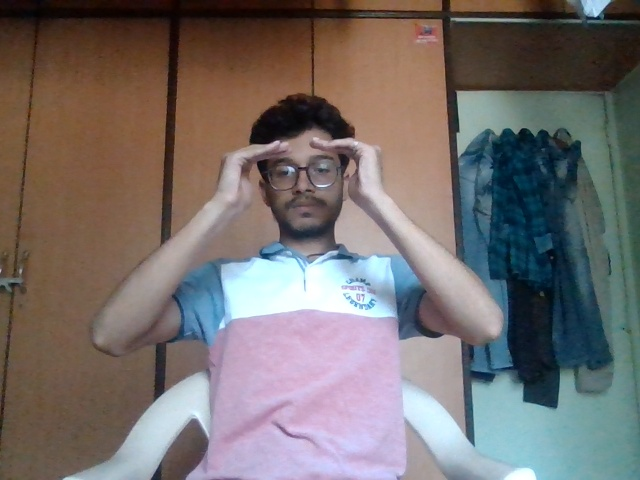afternoon: (204, 130, 421, 246)
